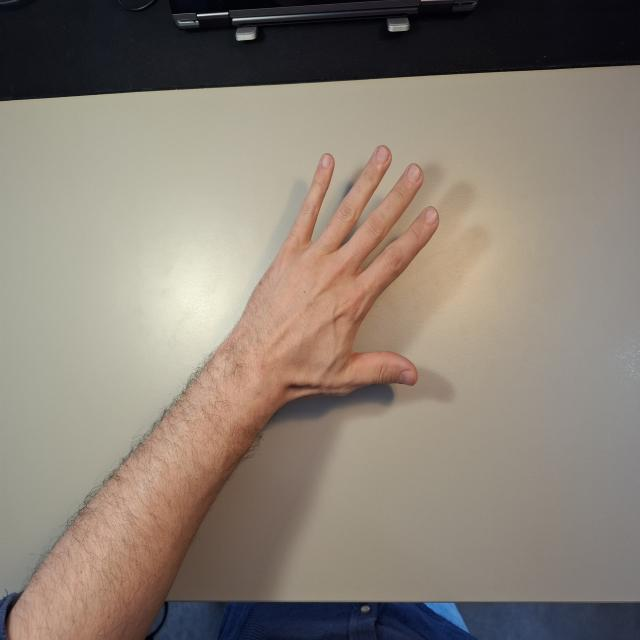glove_off: (244, 143, 441, 409)
